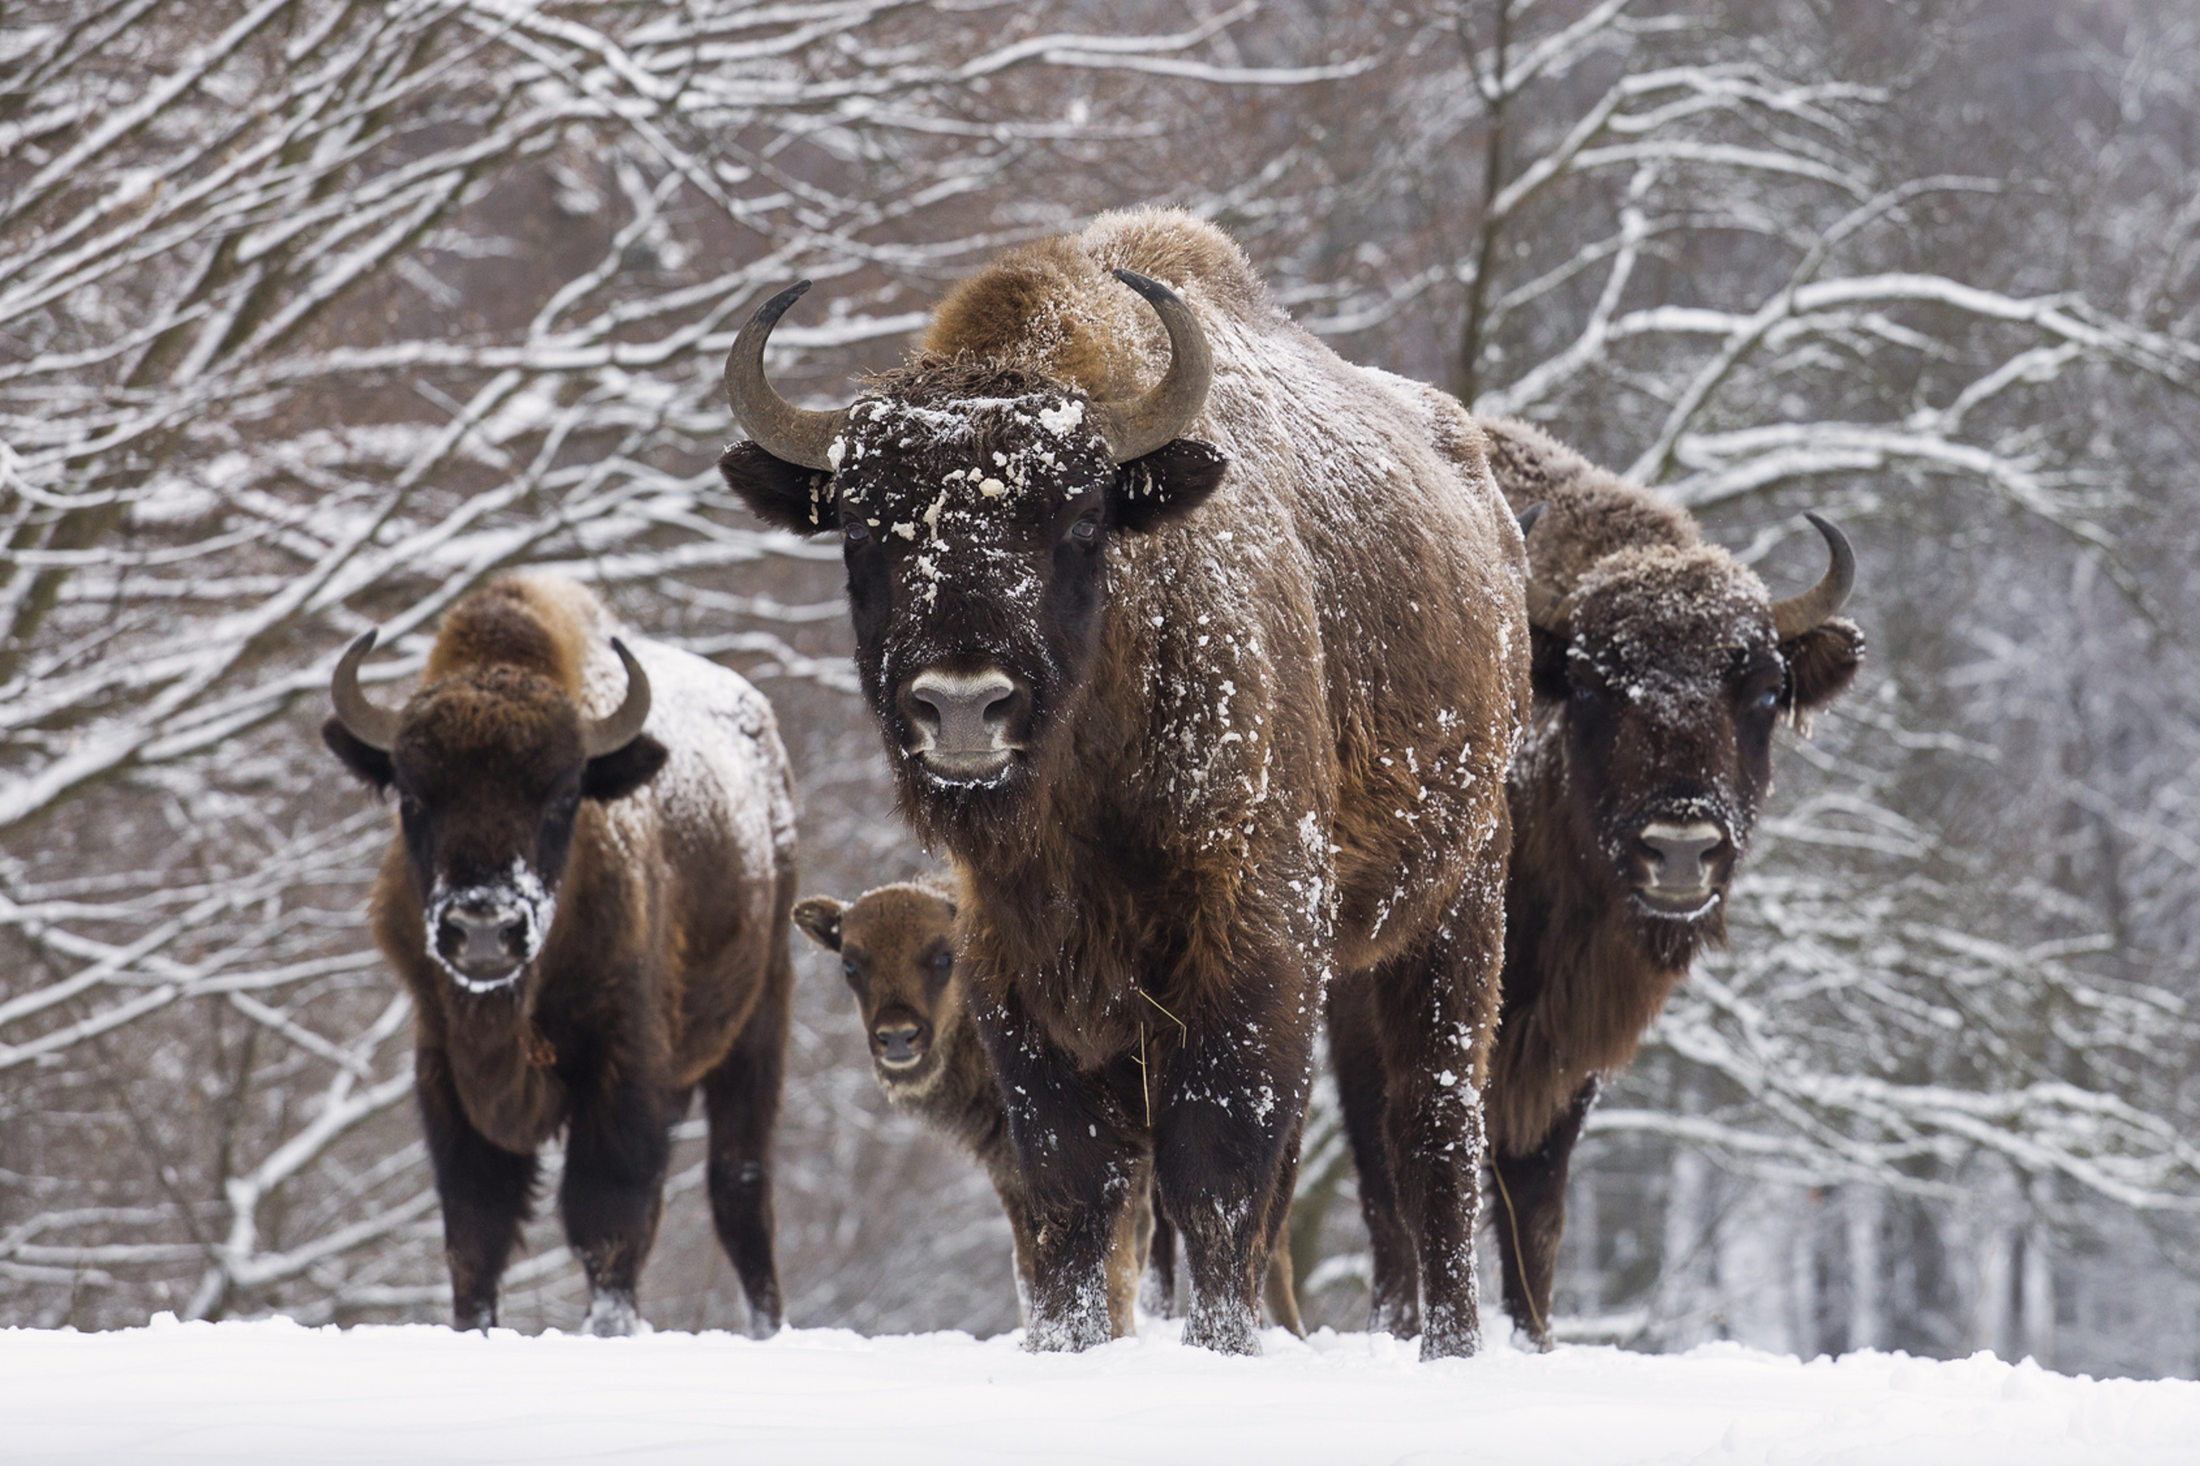zubr: (631, 93, 1636, 1356), (260, 465, 815, 1378), (1552, 347, 1889, 1211), (766, 821, 1060, 1314)
